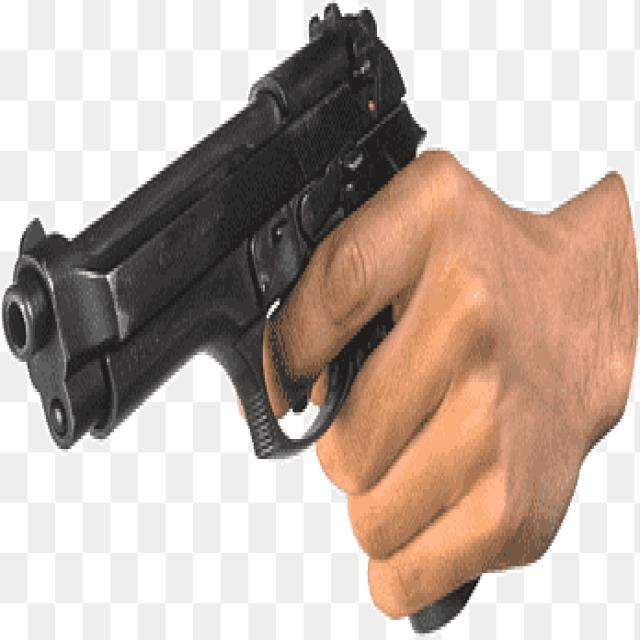HandGun: (2, 7, 427, 462)
